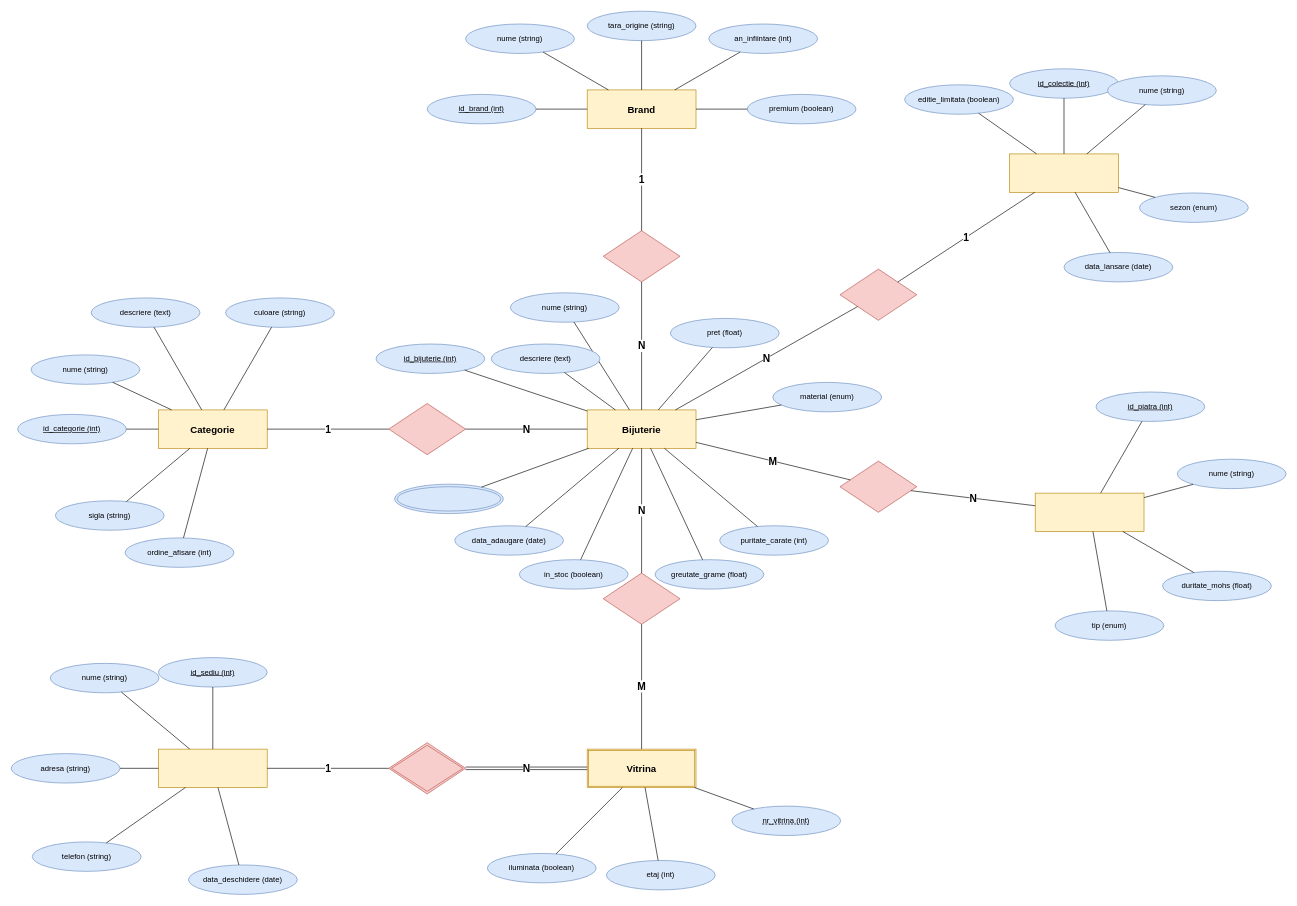
Some shapes in this 1297 by 906 pixel diagram are drawn without their labels. Here are the shapes that lost their labels. From the top down, the box of each, then its label:
(1009, 153, 1118, 192): Colectie
(603, 230, 680, 282): produce
(839, 268, 917, 320): include
(388, 403, 466, 455): apartine
(394, 484, 503, 514): stiluri (vector)
(839, 460, 917, 512): contine
(1035, 492, 1144, 532): PiatraPretioasa
(603, 572, 680, 624): expune
(158, 748, 267, 788): SediuMagazin
(388, 742, 466, 794): are
